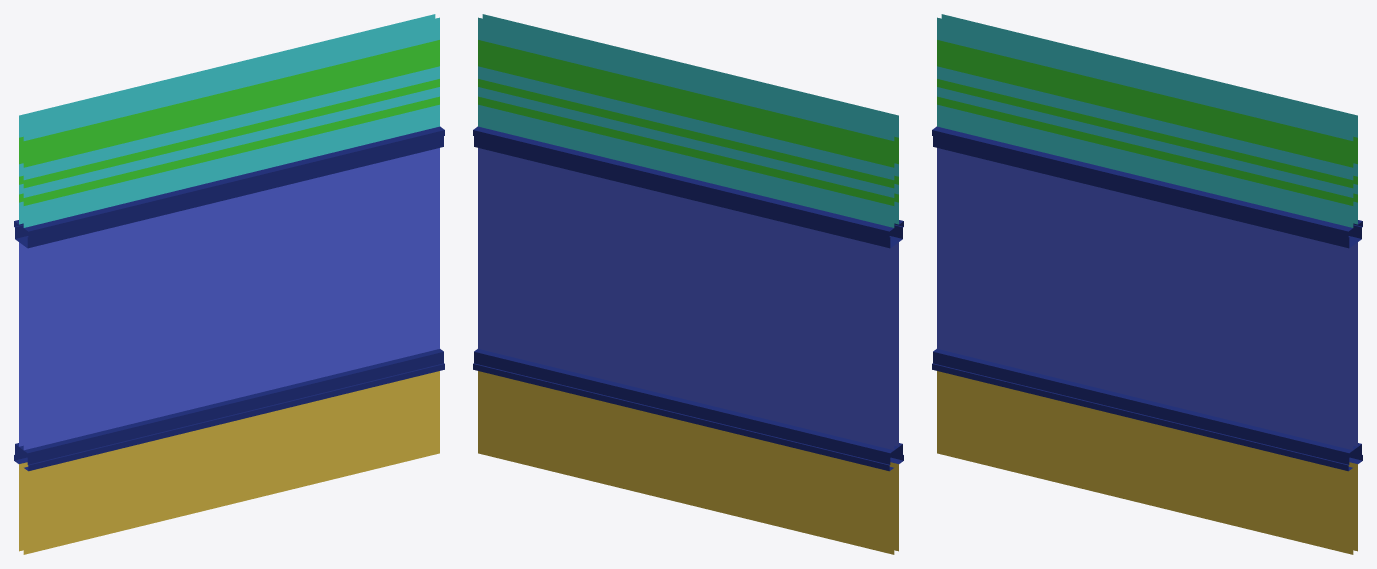
The model's file is Wall_38_Window_Middle.fbx.
The picture shows the model from 3 angles, left to right: view 1: azimuth 30°, elevation 25°; view 2: azimuth 150°, elevation 25°; view 3: azimuth 330°, elevation 25°; orthographic projection.
Visible parts, largest first — view 1: Wall_38_Window_Middle; view 2: Wall_38_Window_Middle; view 3: Wall_38_Window_Middle.
Boxes of the visible parts, bbox=[...] form: Wall_38_Window_Middle: bbox=[14, 14, 444, 554]; Wall_38_Window_Middle: bbox=[473, 14, 903, 554]; Wall_38_Window_Middle: bbox=[932, 14, 1362, 554].
Size of the model in its own units: 457 by 457 by 27.43.
